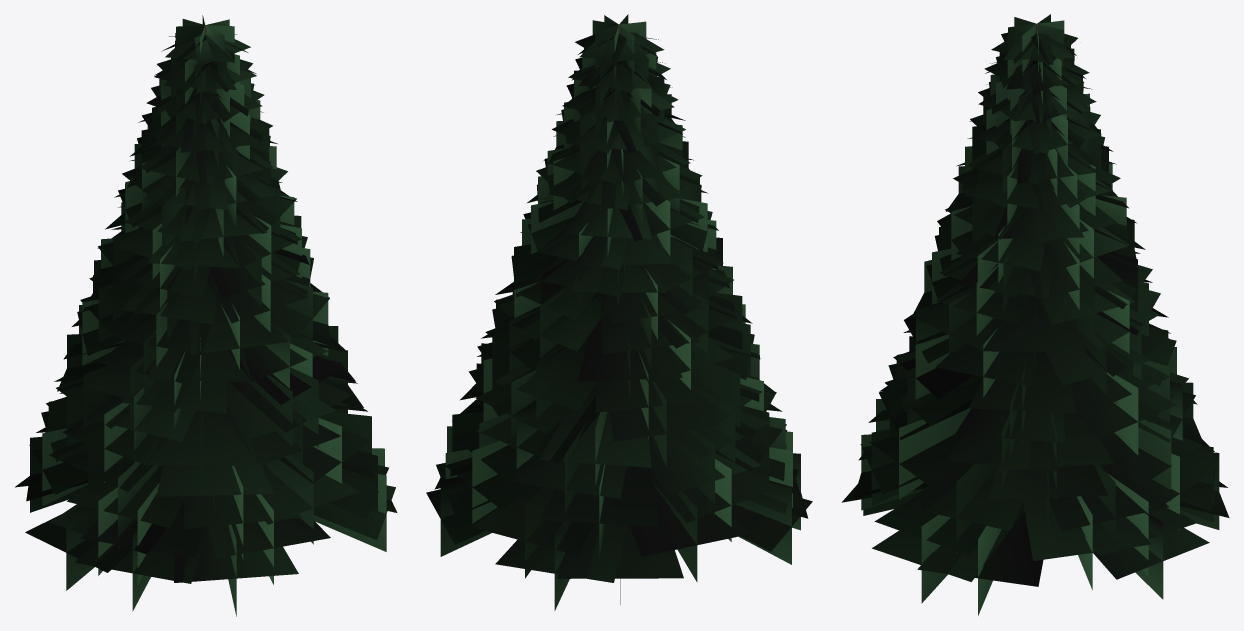
The model's file is pine.glb.
The picture shows the model from 3 angles, left to right: view 1: azimuth 30°, elevation 25°; view 2: azimuth 150°, elevation 25°; view 3: azimuth 270°, elevation 25°; orthographic projection.
Parts seen in each view (by area): view 1: pine_leaves; view 2: pine_leaves; view 3: pine_leaves.
Boxes of the visible parts, x1=… form: pine_leaves: x1=15, y1=15, x2=397, y2=616; pine_leaves: x1=426, y1=14, x2=812, y2=610; pine_leaves: x1=842, y1=14, x2=1229, y2=615.
Size of the model in its own units: 9.49 by 14.02 by 9.47.
